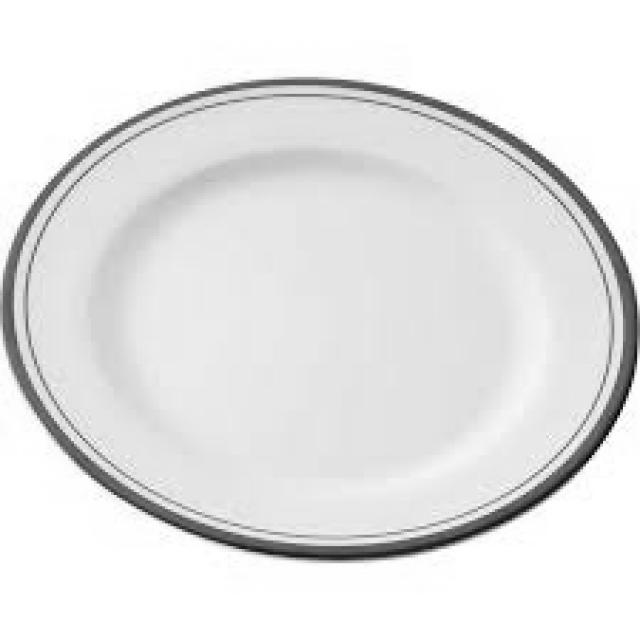dish: (5, 59, 640, 583)
